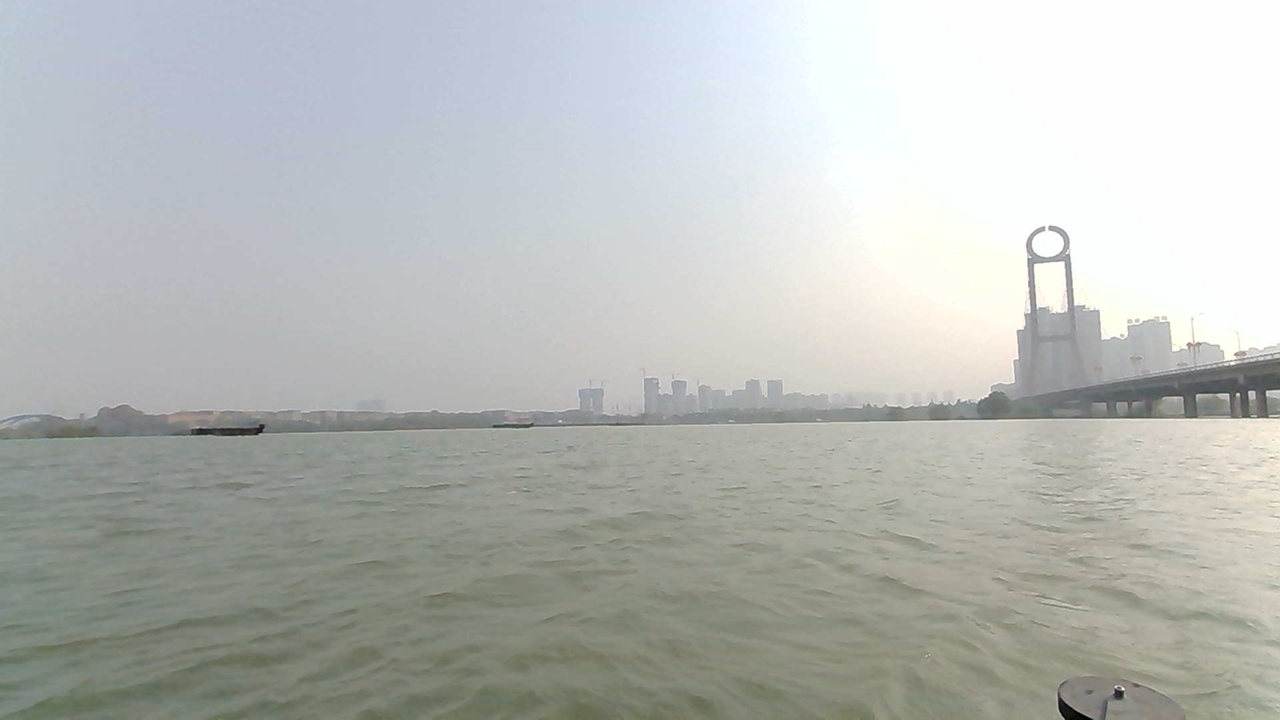bottle: (499, 477, 543, 500)
